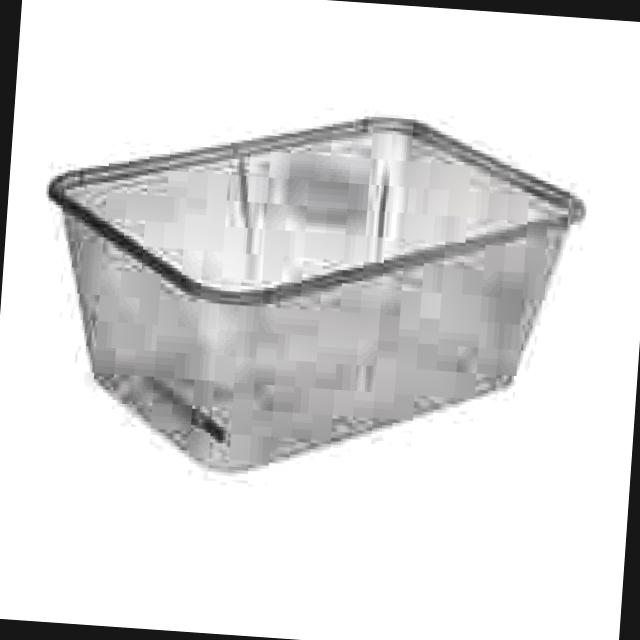plastic container: (49, 117, 582, 469)
